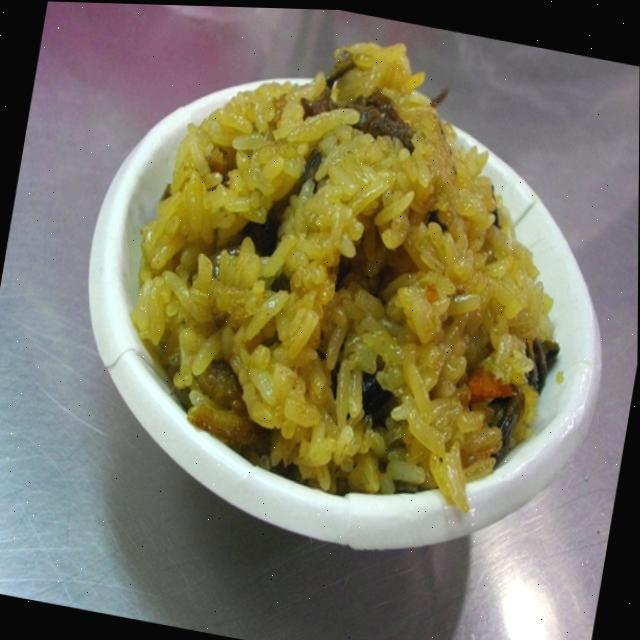米饭主食: (59, 1, 640, 588)
